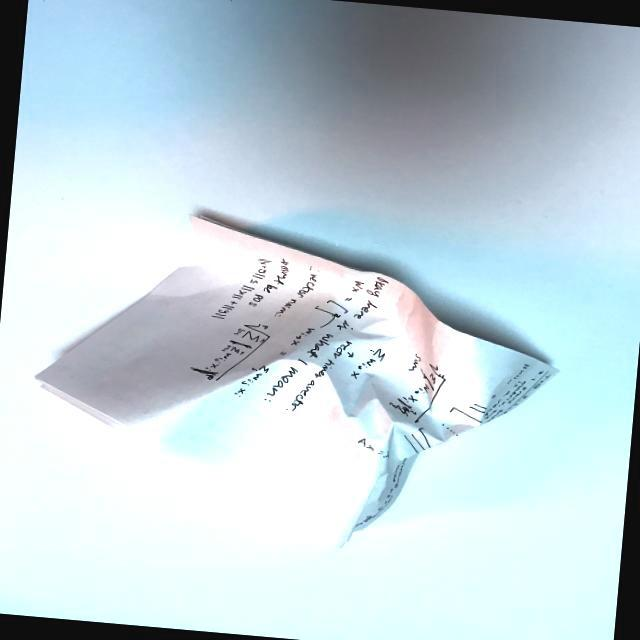paper: (0, 195, 594, 578)
